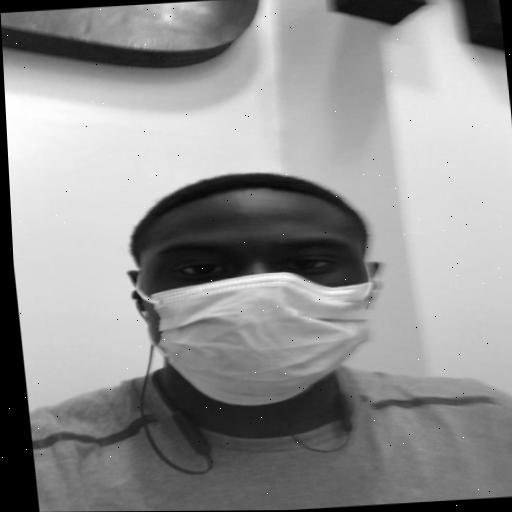mask: (127, 199, 386, 413)
